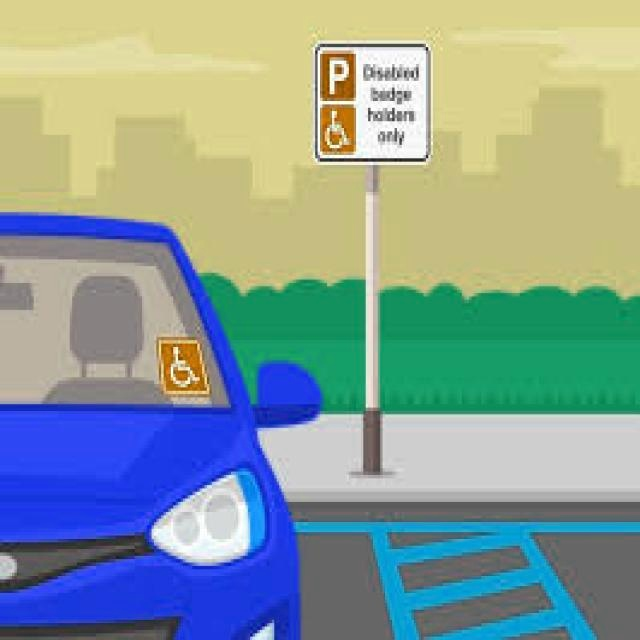ISA: (166, 346, 201, 386), (321, 107, 352, 150)
